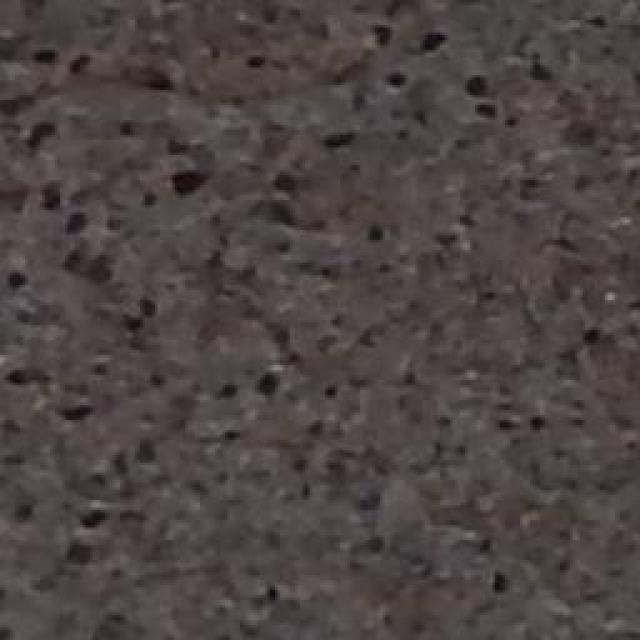concrete-crack: (6, 25, 394, 120)
